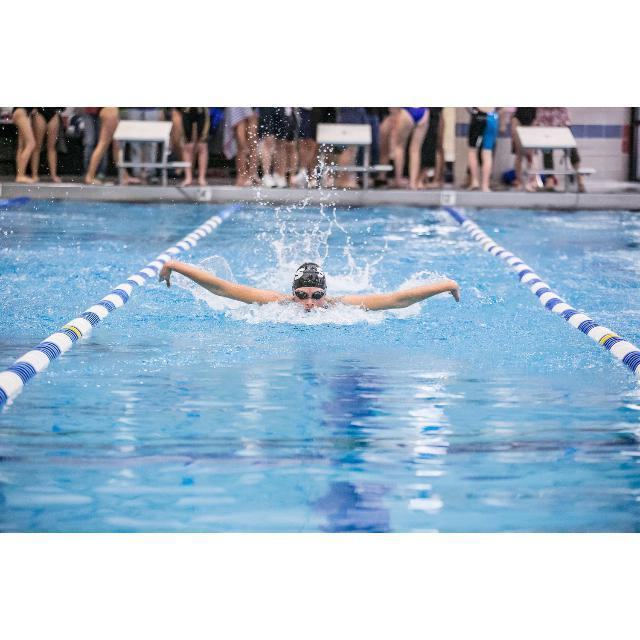human: (161, 251, 463, 320)
